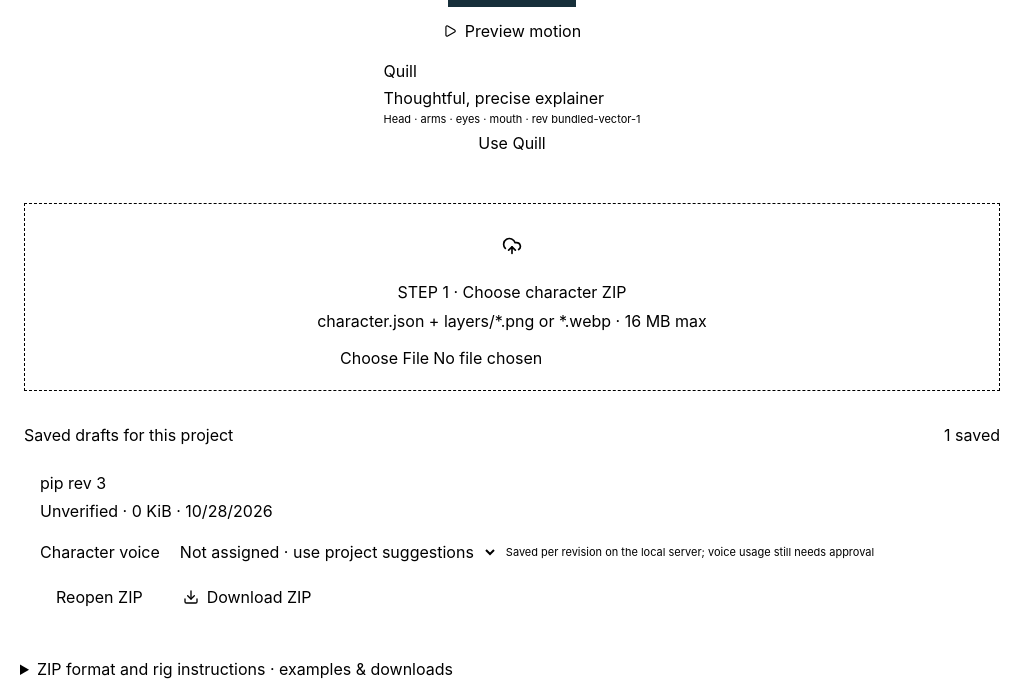
it: CharacterPackInspector › binds a project favorite voice to a saved character revision without sending audio
(page scrolled)
Select "Primary · Fish default (fish, und)" in the dropdown named "Voice for pip, revision 3" at (333, 552), box [168,535,498,569]
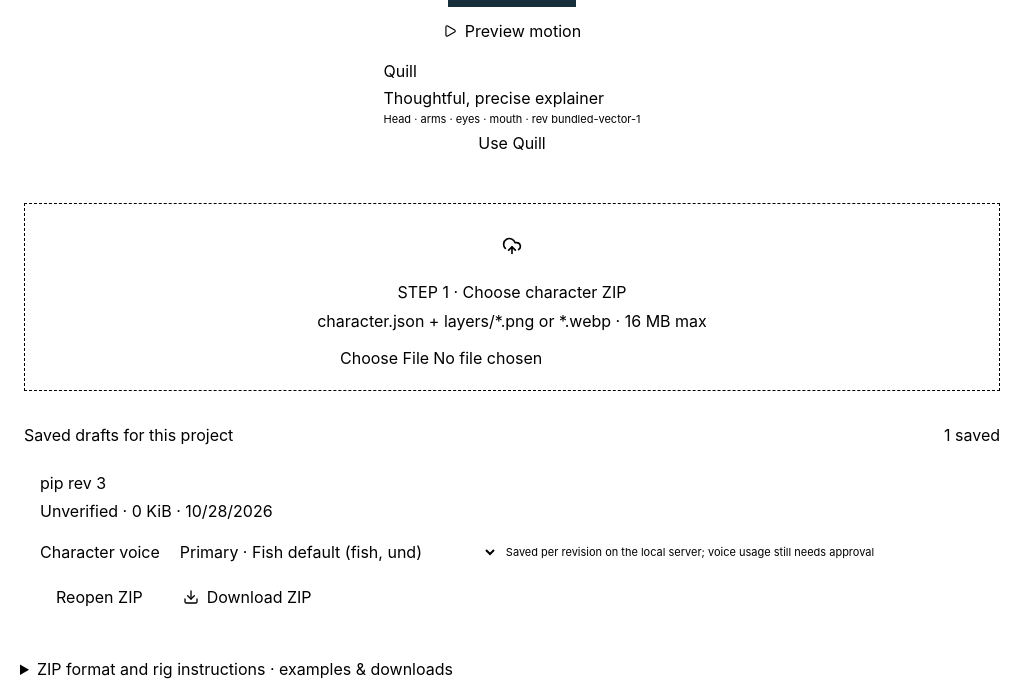
Select "Not assigned · use project suggestions" in the dropdown named "Voice for pip, revision 3" at (333, 552), box [168,535,498,569]
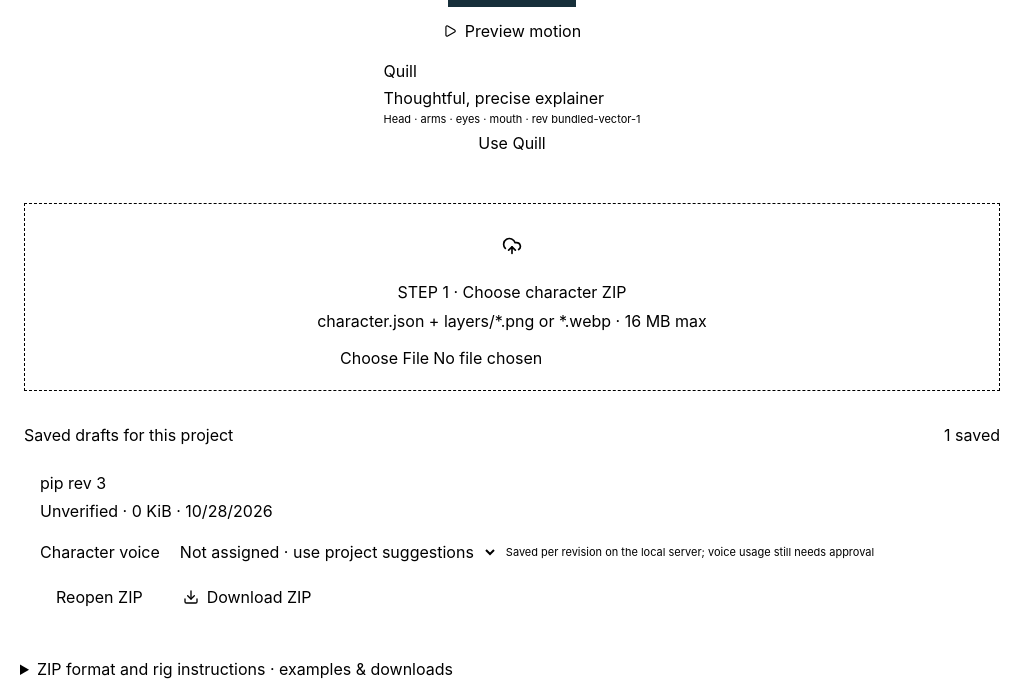
Select "Primary · Fish default (fish, und)" in the dropdown named "Voice for pip, revision 3" at (333, 552), box [168,535,498,569]
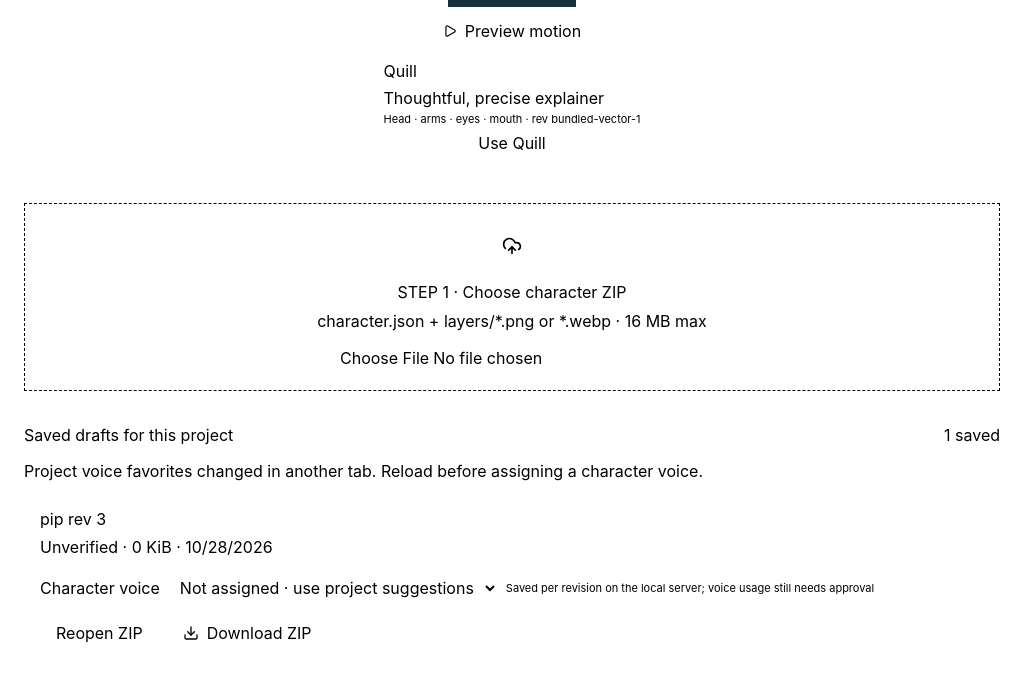
Now the message shows "changed in another tab", box [24,461,703,481]
